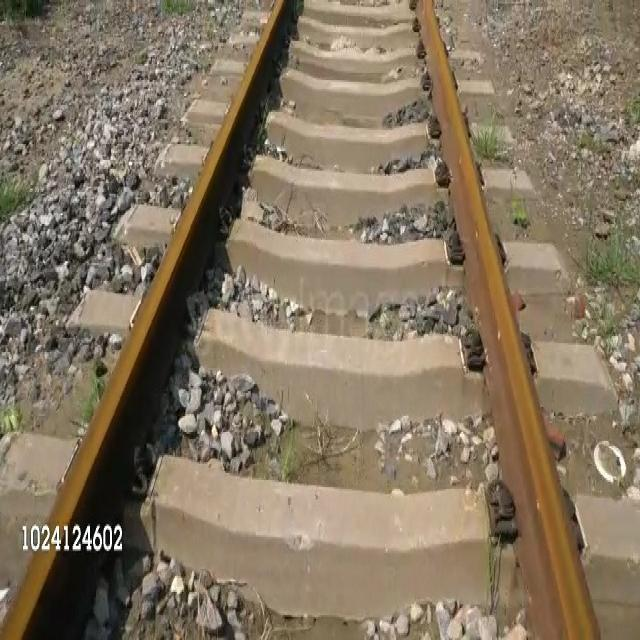Plant: (588, 240, 639, 284), (464, 121, 507, 157), (0, 0, 47, 20), (155, 0, 203, 17), (0, 185, 22, 219)
